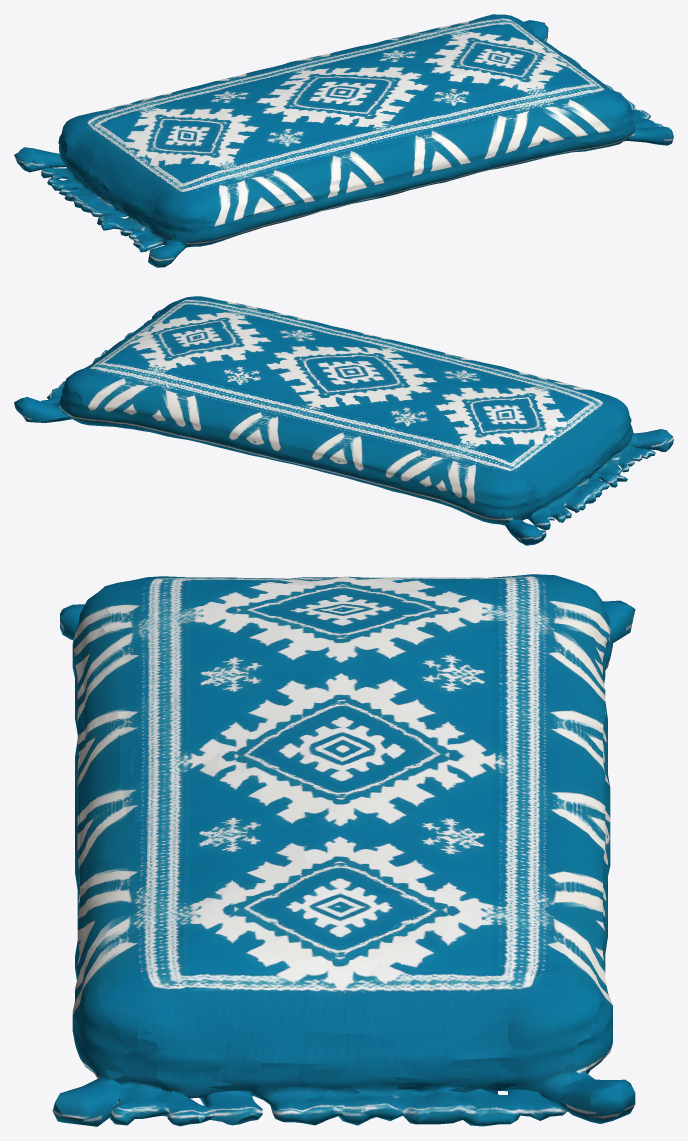
Rendered from s1_quality_kurpeshki_blue.glb.
3 views of the same model, one above another, from view 1: azimuth 30°, elevation 25°; view 2: azimuth 150°, elevation 25°; view 3: azimuth 270°, elevation 25° (orthographic). The views are drawn at different scales.
Size of the model in its own units: 1.9 by 0.2192 by 0.9119.
Materials: 1 (1 with a texture image).
